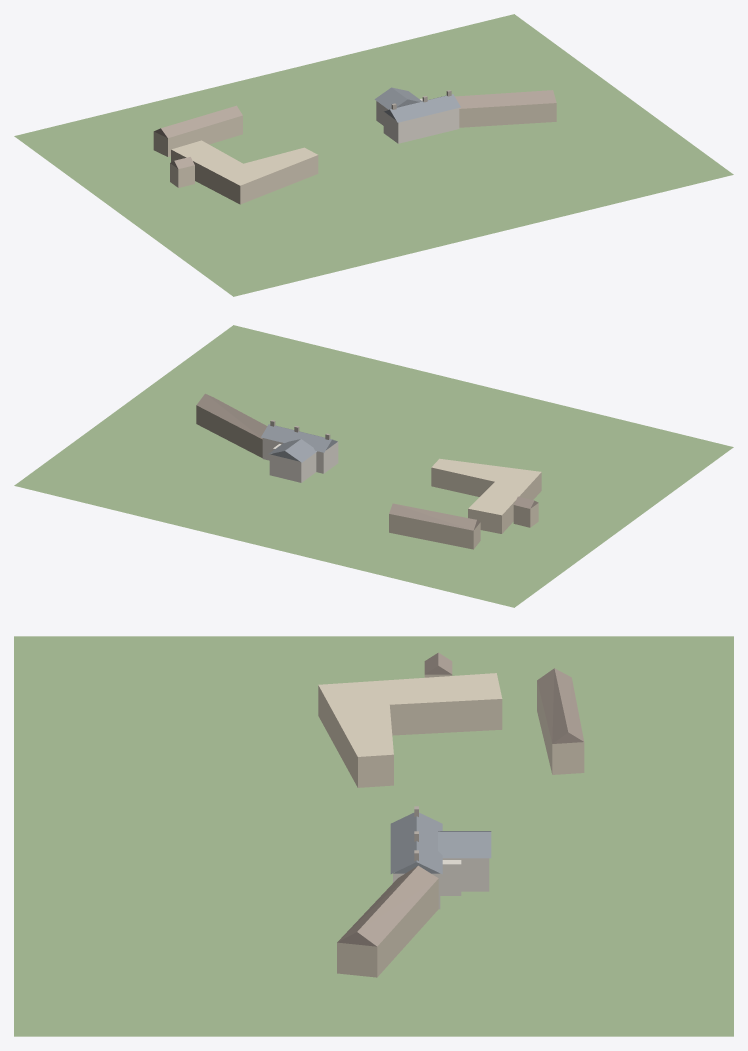
File: great-house-farm-massing-v0.1.glb
The picture shows the model from 3 angles, top to bottom: view 1: azimuth 30°, elevation 25°; view 2: azimuth 150°, elevation 25°; view 3: azimuth 270°, elevation 25°; orthographic projection. The views are drawn at different scales.
Visible parts, largest first — view 1: ground, ranges_A_to_D (OS c.1900 outline; heights inferred), ranges_roofs (inferred), farmhouse_walls (scaled plan; heights inferred), farmhouse_roofs (inferred); view 2: ground, ranges_A_to_D (OS c.1900 outline; heights inferred), ranges_roofs (inferred), farmhouse_walls (scaled plan; heights inferred), farmhouse_roofs (inferred); view 3: ground, ranges_A_to_D (OS c.1900 outline; heights inferred), ranges_roofs (inferred), farmhouse_roofs (inferred), farmhouse_walls (scaled plan; heights inferred).
Boxes of the visible parts, box(x1,y1,x2,y2) form: ground: box(14, 14, 733, 296); ranges_A_to_D (OS c.1900 outline; heights inferred): box(153, 103, 556, 204); ranges_roofs (inferred): box(154, 90, 556, 168); farmhouse_walls (scaled plan; heights inferred): box(376, 98, 459, 143); farmhouse_roofs (inferred): box(374, 87, 460, 122); ground: box(14, 325, 733, 607); ranges_A_to_D (OS c.1900 outline; heights inferred): box(196, 405, 541, 549); ranges_roofs (inferred): box(196, 393, 538, 530); farmhouse_walls (scaled plan; heights inferred): box(262, 438, 338, 482); farmhouse_roofs (inferred): box(261, 424, 337, 462); ground: box(14, 636, 733, 1036); ranges_A_to_D (OS c.1900 outline; heights inferred): box(318, 673, 584, 977); ranges_roofs (inferred): box(337, 652, 584, 946); farmhouse_roofs (inferred): box(390, 812, 491, 874); farmhouse_walls (scaled plan; heights inferred): box(393, 858, 489, 909).
Size of the model in its own units: 125 by 8.02 by 95.
